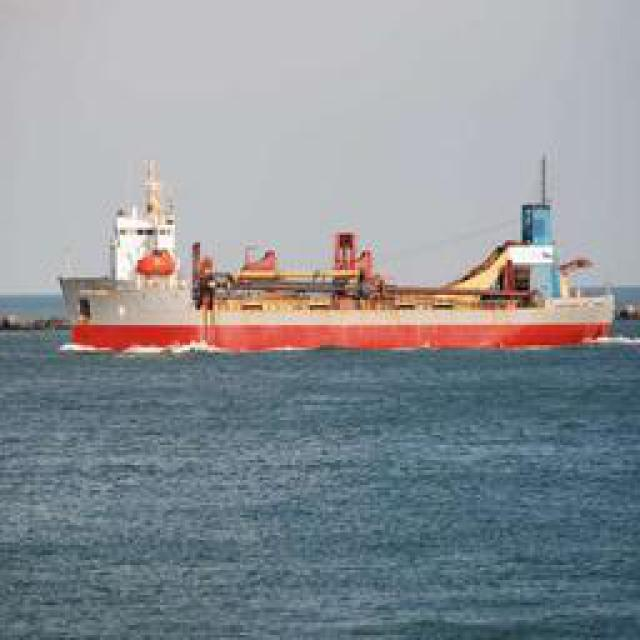Ship: (49, 237, 614, 357)
